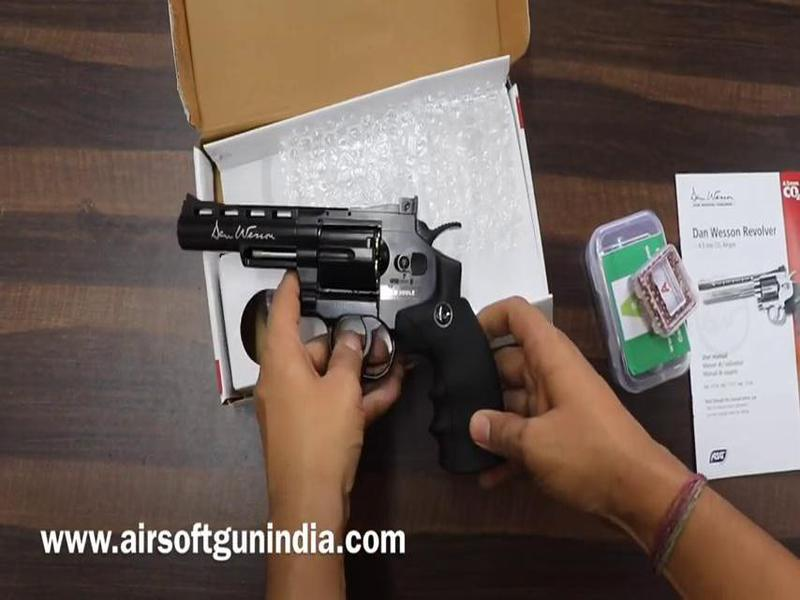Revolver: (167, 174, 497, 397)
